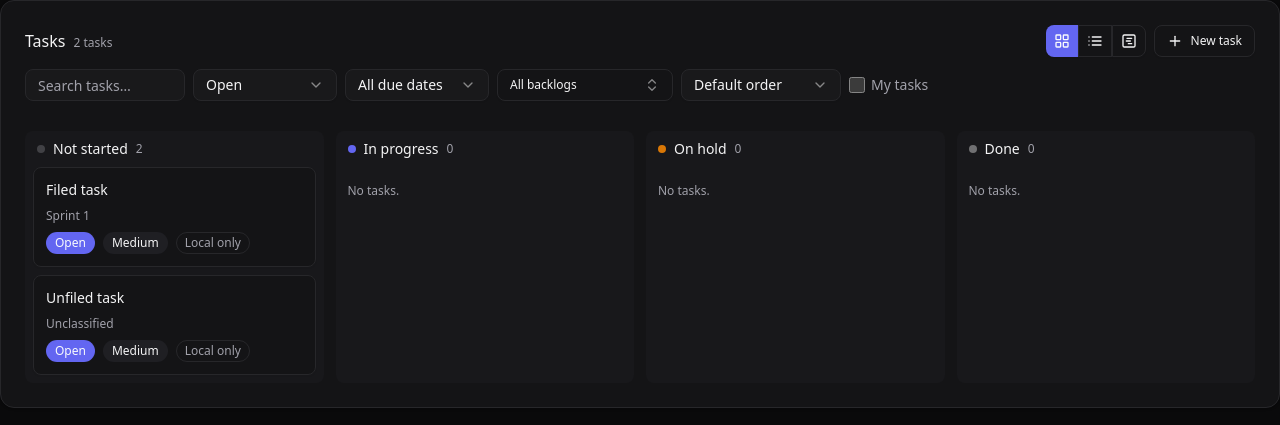
it: TaskListSection › groups tasks by backlog, ordered before the Unclassified group
The image size is (1280, 425).
Click the button named "List": x=1095, y=41 [1078,25,1112,57]
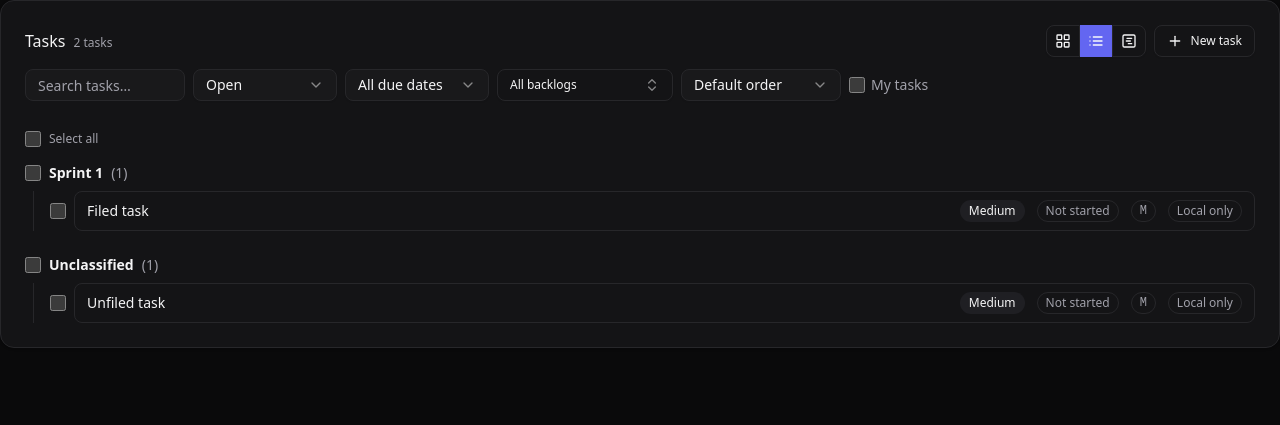
Expected: the headings read "Sprint 1 (1)", "Unclassified (1)", in this order, [25,163,128,182]; [25,255,158,274]
